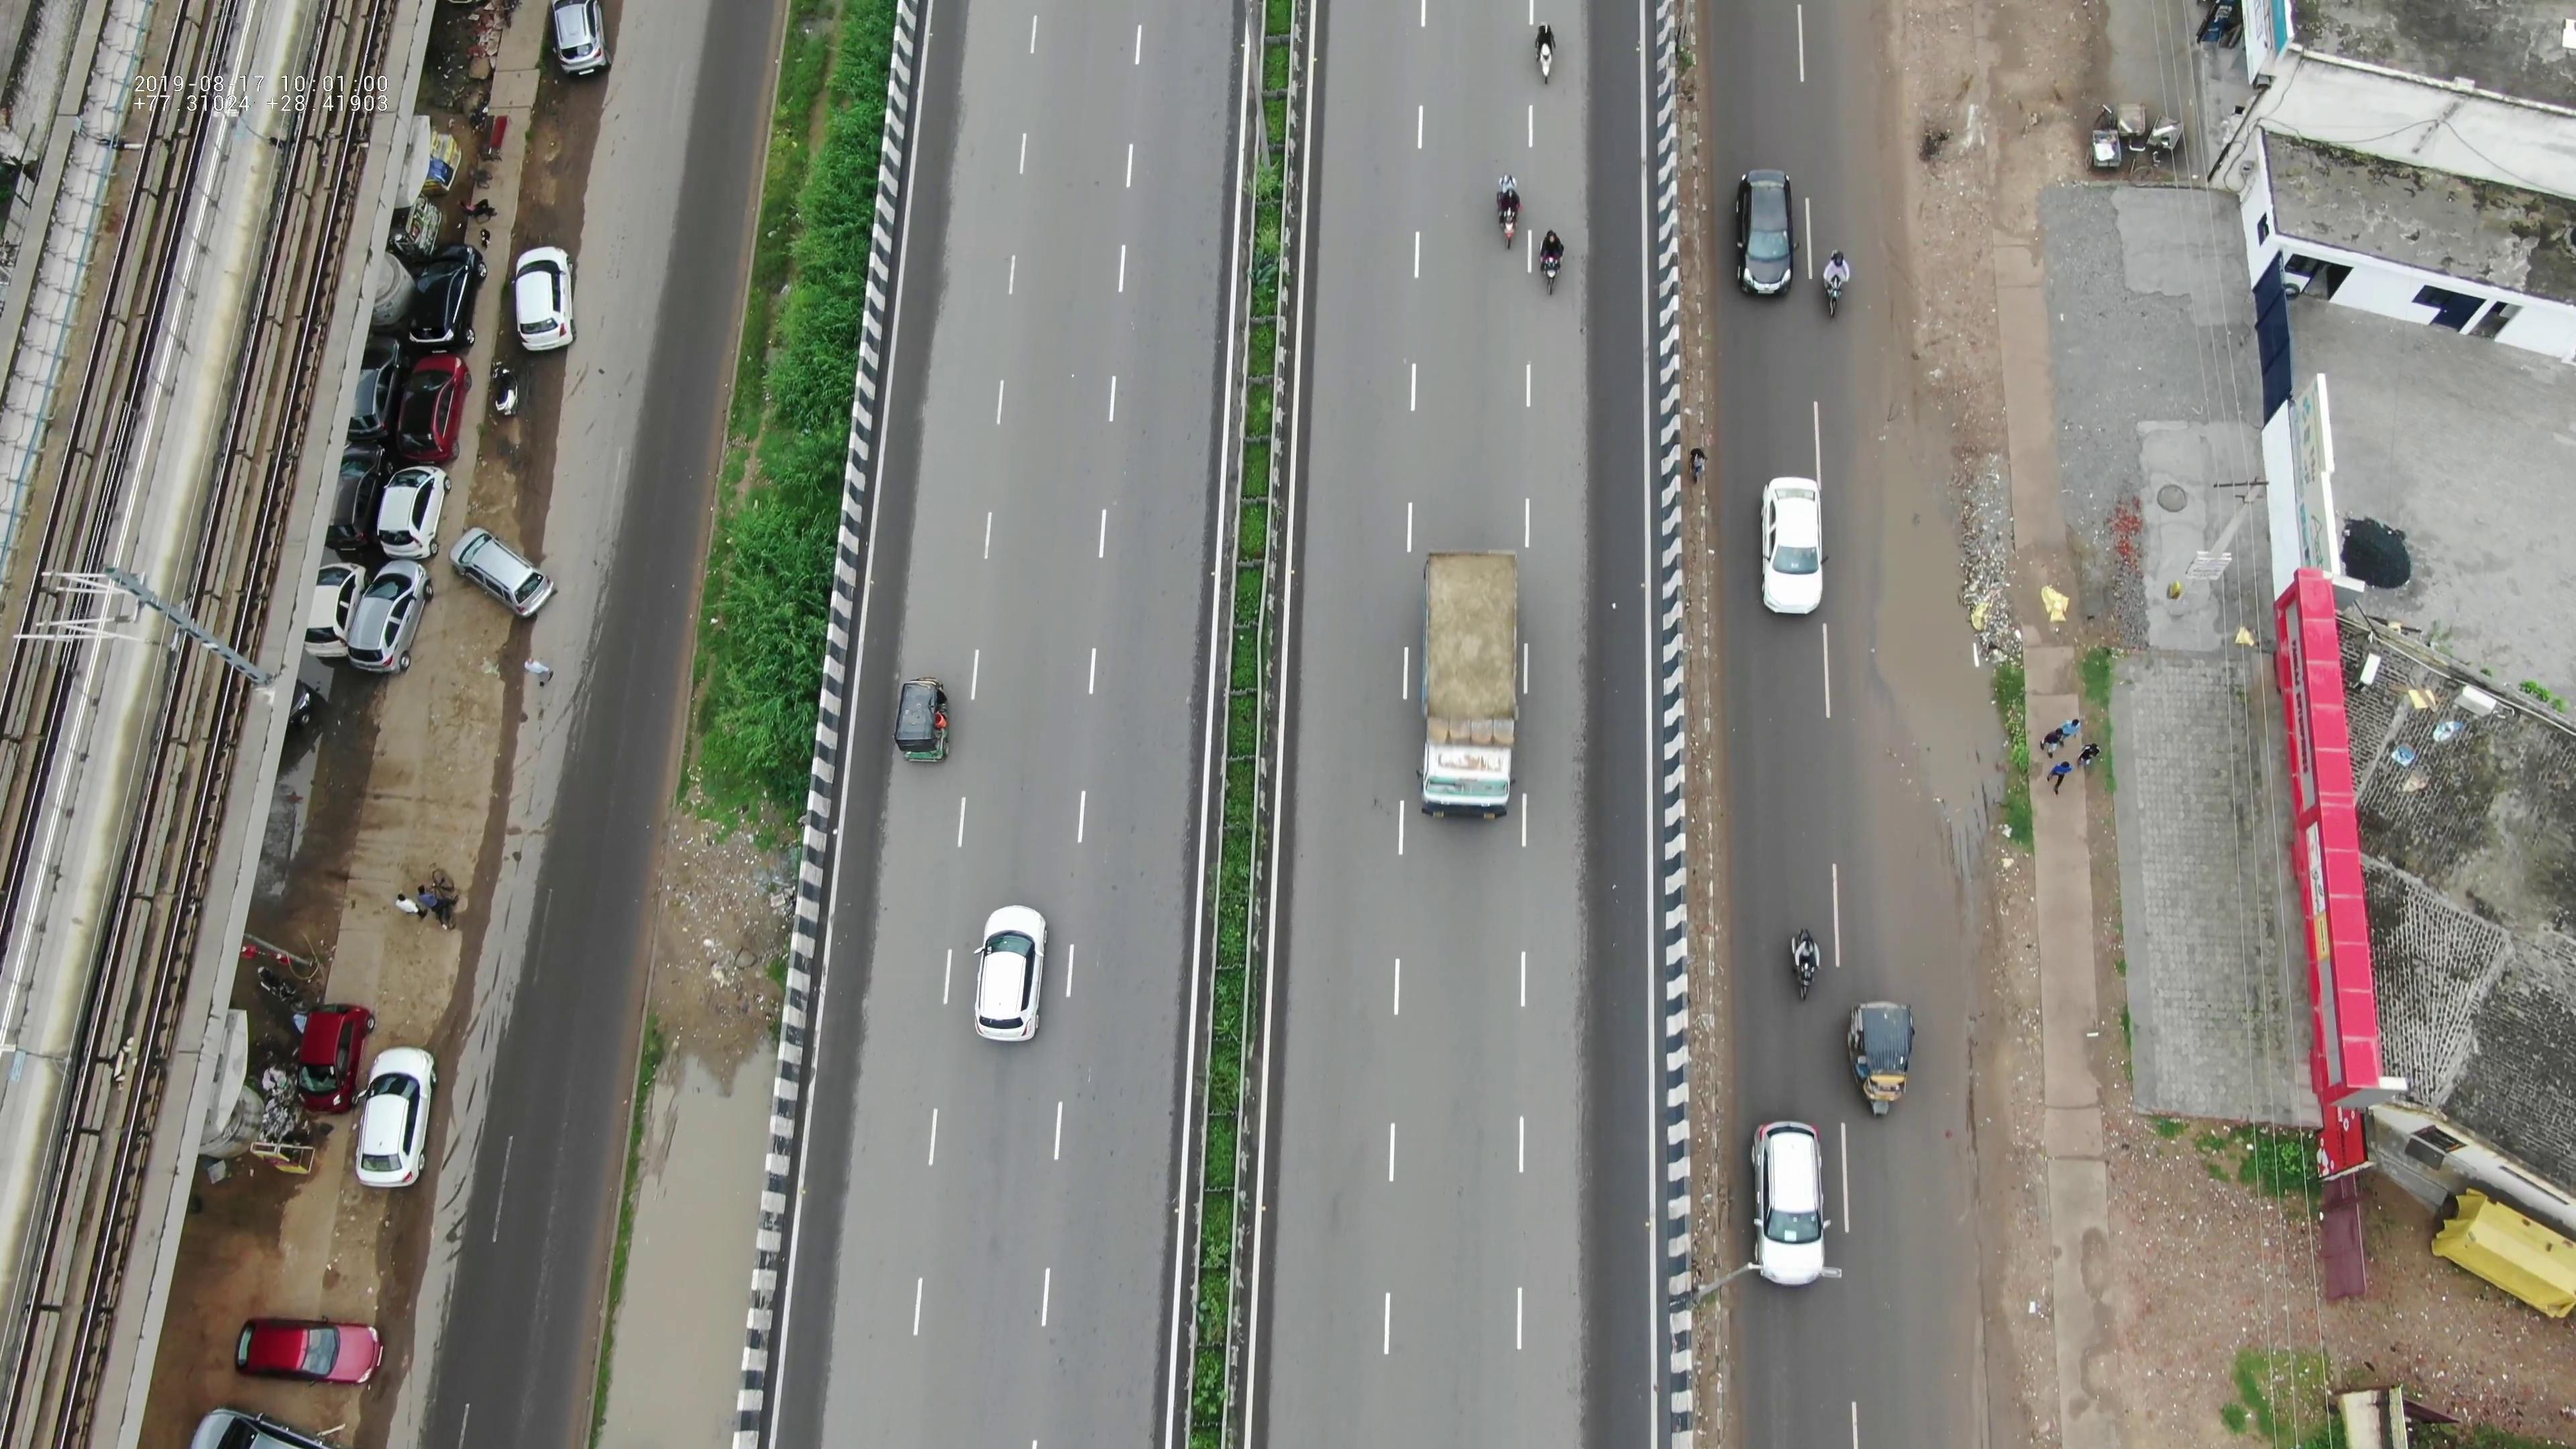Waterlogging: (1877, 481, 2013, 816)
